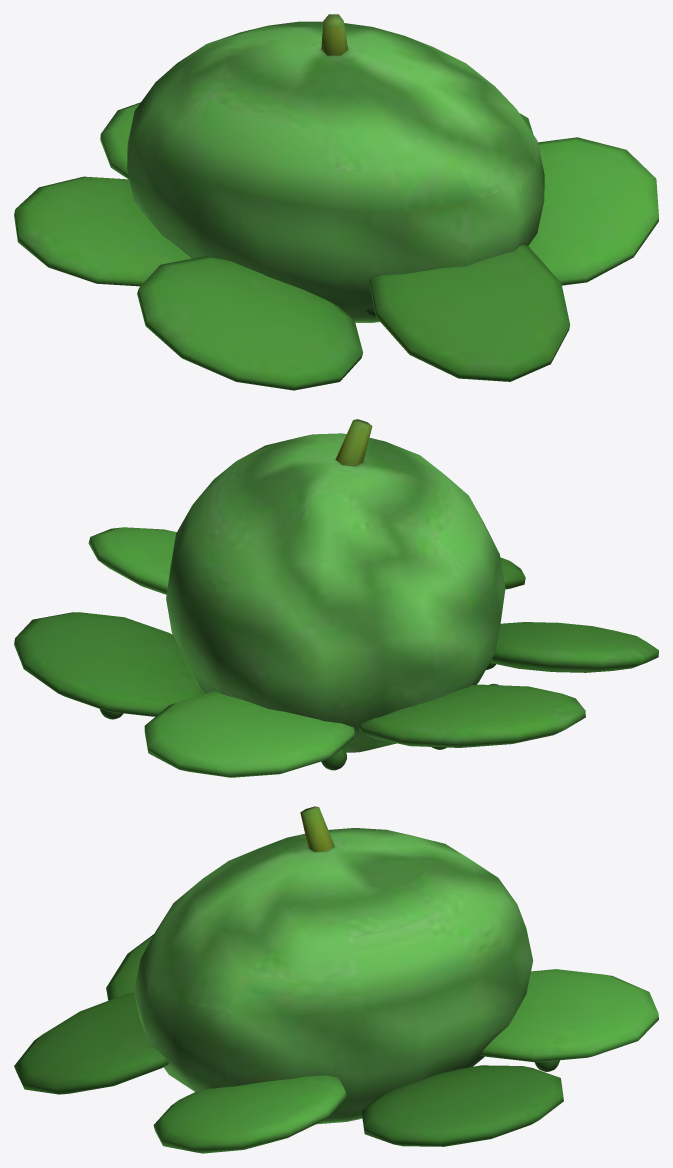
File: crop_watermelon.glb
3 views of the same model, one above another, from view 1: azimuth 30°, elevation 25°; view 2: azimuth 150°, elevation 25°; view 3: azimuth 270°, elevation 25° (orthographic). The views are drawn at different scales.
Visible parts, largest first — view 1: fruit, crop_watermelon; view 2: fruit, crop_watermelon; view 3: fruit, crop_watermelon.
Boxes of the visible parts, box(x1,y1,x2,y2) form: fruit: box(127, 21, 544, 322); crop_watermelon: box(14, 14, 658, 390); fruit: box(166, 433, 505, 752); crop_watermelon: box(14, 419, 658, 777); fruit: box(134, 828, 533, 1124); crop_watermelon: box(14, 806, 658, 1153).
Bounding box in the file's own units: 0.3718 × 0.1937 × 0.3914.
1 material, 1 textured.
